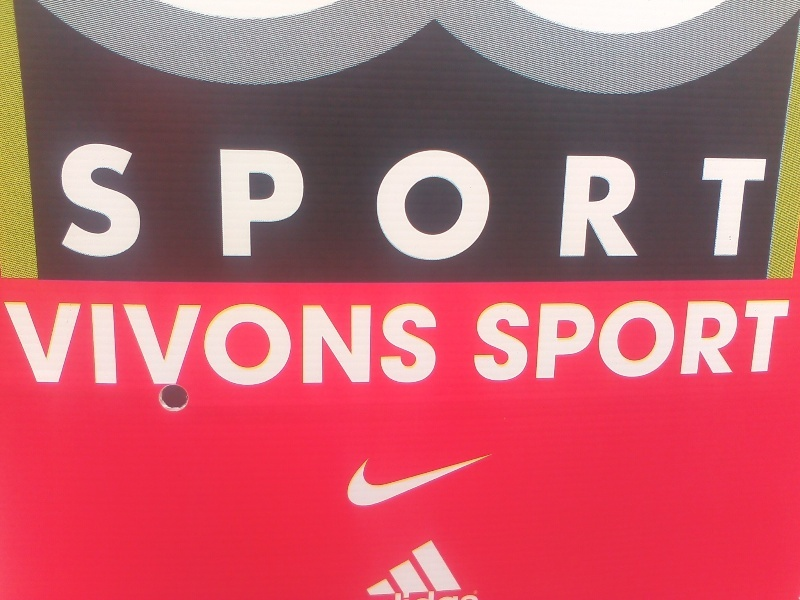text: (65, 136, 80, 264), (81, 136, 96, 264), (97, 136, 112, 264), (113, 136, 128, 264), (129, 136, 144, 264), (145, 136, 160, 264), (161, 136, 176, 264), (177, 136, 192, 264), (193, 136, 208, 264), (209, 136, 224, 264), (225, 136, 240, 264), (241, 136, 256, 264), (257, 136, 272, 264), (273, 136, 288, 264), (289, 136, 304, 264), (305, 136, 320, 264), (321, 136, 336, 264), (337, 136, 352, 264), (353, 136, 368, 264), (369, 136, 384, 264), (385, 136, 400, 264), (401, 136, 416, 264), (417, 136, 432, 264), (433, 136, 448, 264), (449, 136, 464, 264), (465, 136, 480, 264), (481, 136, 496, 264), (497, 136, 512, 264), (513, 136, 528, 264), (529, 136, 544, 264), (545, 136, 560, 264), (561, 136, 576, 264), (577, 136, 592, 264), (593, 136, 608, 264), (609, 136, 624, 264), (625, 136, 640, 264), (641, 136, 656, 264), (657, 136, 672, 264), (673, 136, 688, 264), (689, 136, 704, 264), (705, 136, 720, 264), (721, 136, 736, 264), (737, 136, 752, 264), (753, 136, 768, 264), (17, 299, 32, 387), (33, 299, 48, 387), (49, 299, 64, 387), (65, 299, 80, 387), (81, 299, 96, 387), (97, 299, 112, 387), (113, 299, 128, 387), (129, 299, 144, 387), (145, 299, 160, 387), (161, 299, 176, 387), (177, 299, 192, 387), (193, 299, 208, 387), (209, 299, 224, 387), (225, 299, 240, 387), (241, 299, 256, 387), (257, 299, 272, 387), (273, 299, 288, 387), (289, 299, 304, 387), (305, 299, 320, 387), (321, 299, 336, 387), (337, 299, 352, 387), (353, 299, 368, 387), (369, 299, 384, 387), (385, 299, 400, 387), (401, 299, 416, 387), (417, 299, 432, 387), (481, 298, 496, 384), (497, 298, 512, 384), (513, 298, 528, 384), (529, 298, 544, 384), (545, 298, 560, 384), (561, 298, 576, 384), (577, 298, 592, 384), (593, 298, 608, 384), (609, 298, 624, 384), (625, 298, 640, 384), (641, 298, 656, 384), (657, 298, 672, 384), (673, 298, 688, 384), (689, 298, 704, 384), (705, 298, 720, 384), (721, 298, 736, 384), (737, 298, 752, 384), (753, 298, 768, 384), (769, 298, 784, 384), (4, 299, 16, 387), (433, 299, 440, 387), (785, 298, 792, 384), (474, 298, 480, 384), (62, 136, 64, 264), (769, 136, 770, 264)
